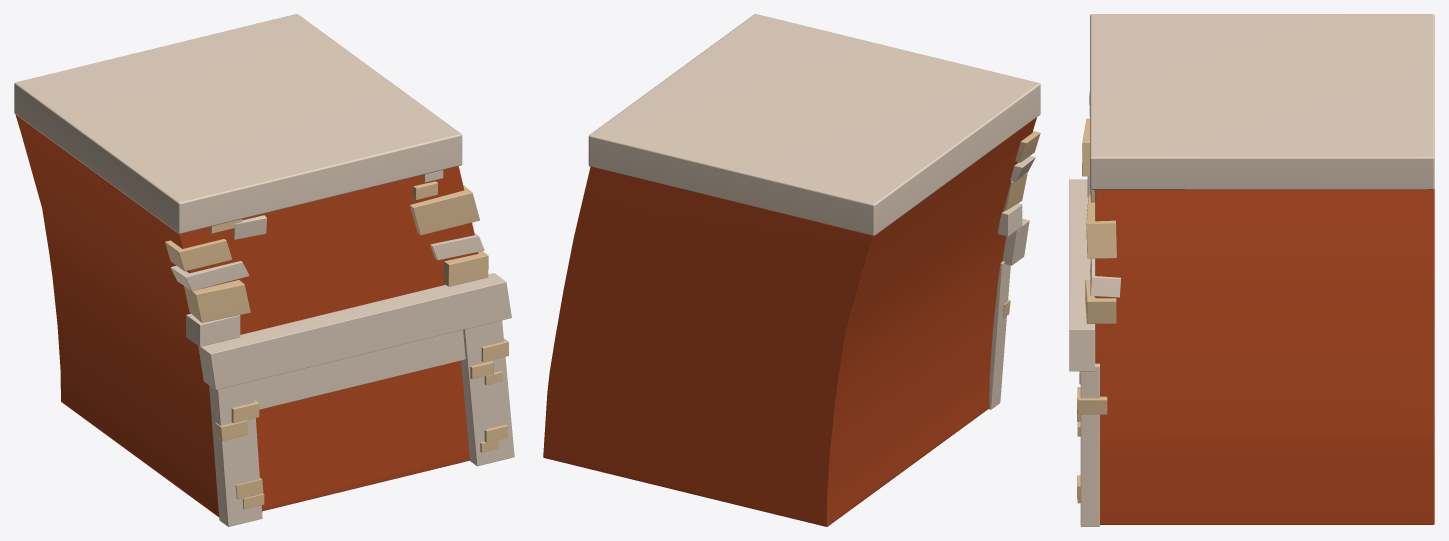
File: Mesh_EDH_Building3.fbx
3 renders of one model, left to right at view 1: azimuth 30°, elevation 25°; view 2: azimuth 150°, elevation 25°; view 3: azimuth 270°, elevation 25°, orthographic. The views are drawn at different scales.
Parts seen in each view (by area): view 1: pCube58; view 2: pCube58; view 3: pCube58.
Boxes of the visible parts, x1,y1,x2,y2 form: pCube58: (14,14,514,526); pCube58: (543,14,1040,526); pCube58: (1069,14,1434,526).
Bounding box in the file's own units: 188 × 180 × 172.
